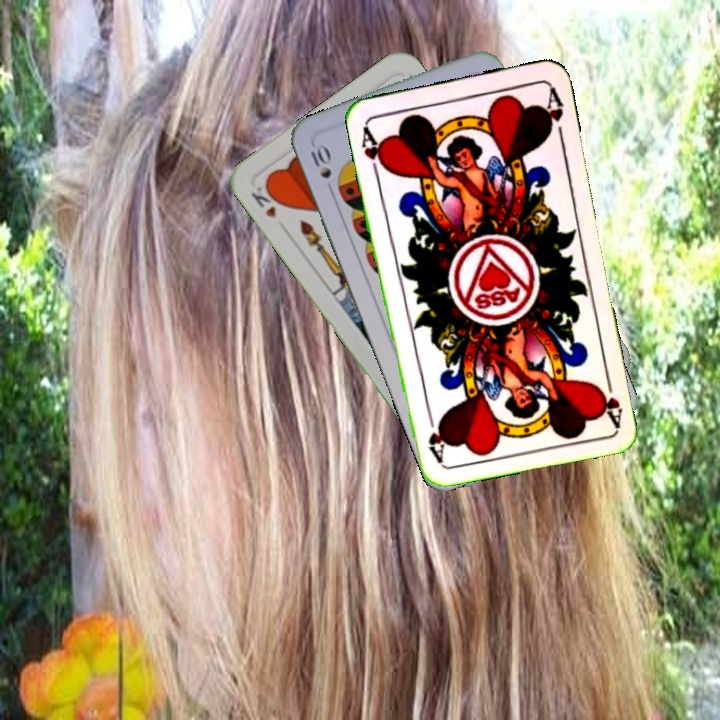HA: (357, 119, 390, 178), (593, 369, 626, 428)
HK: (247, 179, 284, 221)
S10: (306, 139, 334, 182)
